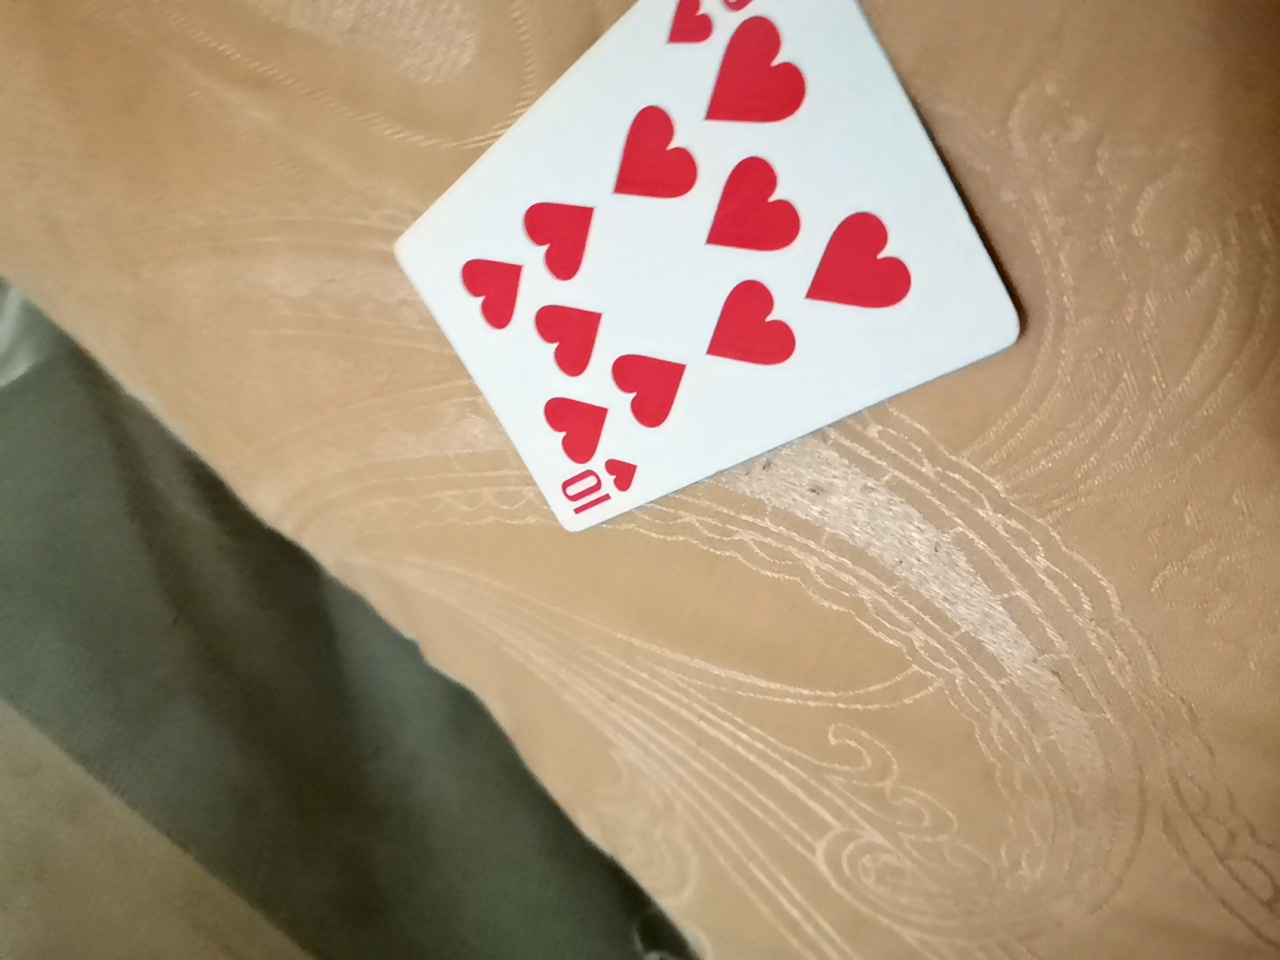hx 10: (350, 1, 997, 522)
